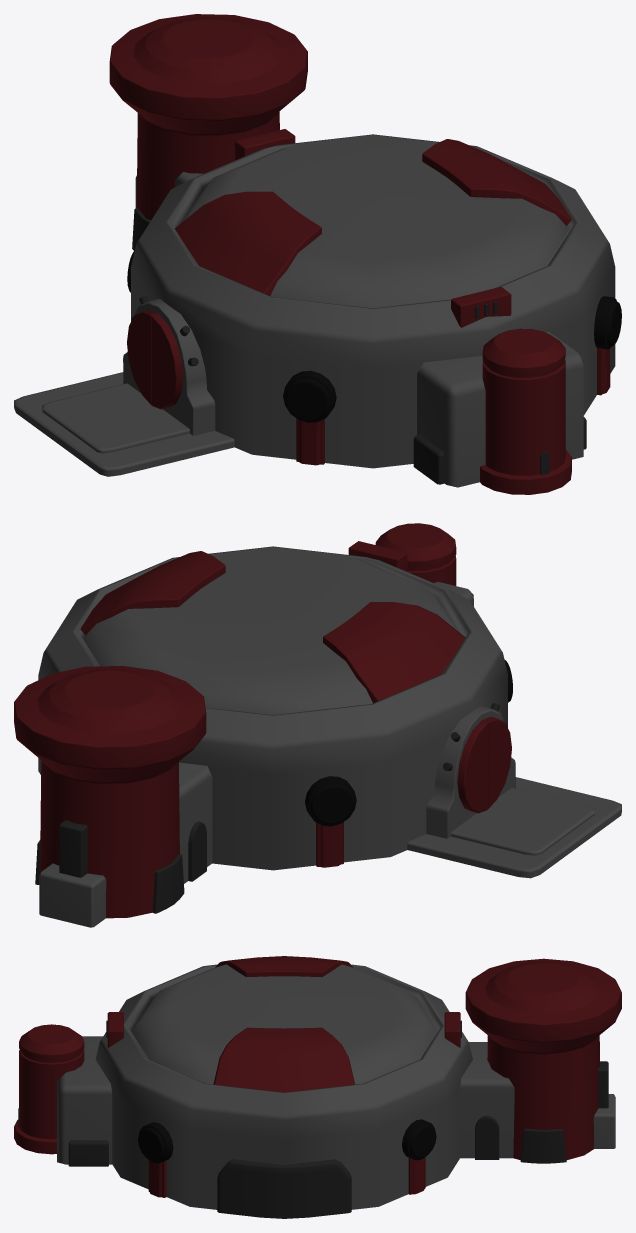
File: colony_Main_house_2lv.glb
The picture shows the model from 3 angles, top to bottom: view 1: azimuth 30°, elevation 25°; view 2: azimuth 150°, elevation 25°; view 3: azimuth 270°, elevation 25°; orthographic projection. The views are drawn at different scales.
Visible parts, largest first — view 1: Main_house_2lv; view 2: Main_house_2lv; view 3: Main_house_2lv.
Part boxes in pixels (x1=…): Main_house_2lv: x1=14, y1=14, x2=621, y2=494; Main_house_2lv: x1=14, y1=523, x2=621, y2=927; Main_house_2lv: x1=14, y1=956, x2=621, y2=1218.
Bounding box in the file's own units: 1385 × 514 × 1766.
Materials: 1 (1 with a texture image).
